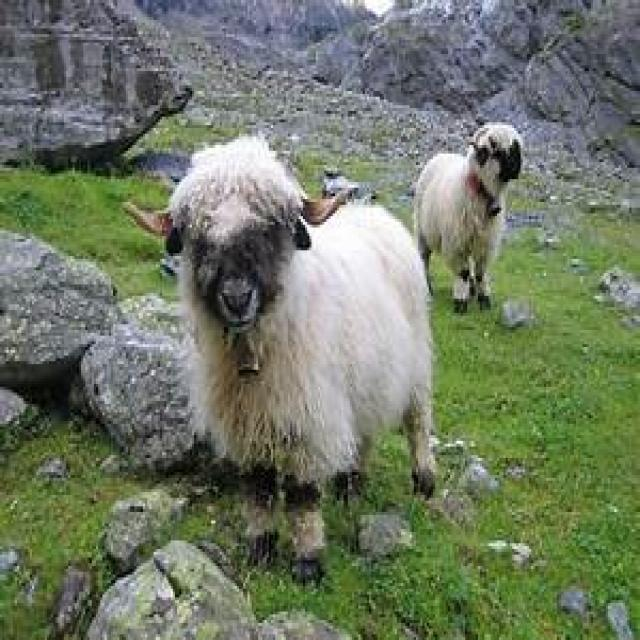sheep: (120, 131, 438, 586), (410, 119, 522, 313)
